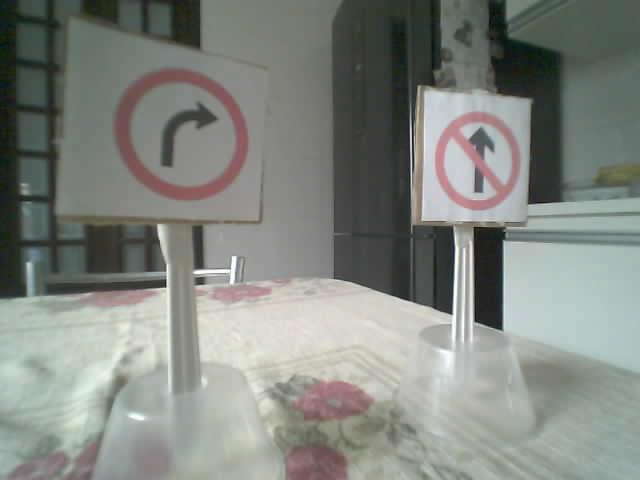R-25b_direita: (112, 65, 250, 202)
R-3_sentido-proibido: (434, 111, 520, 210)
